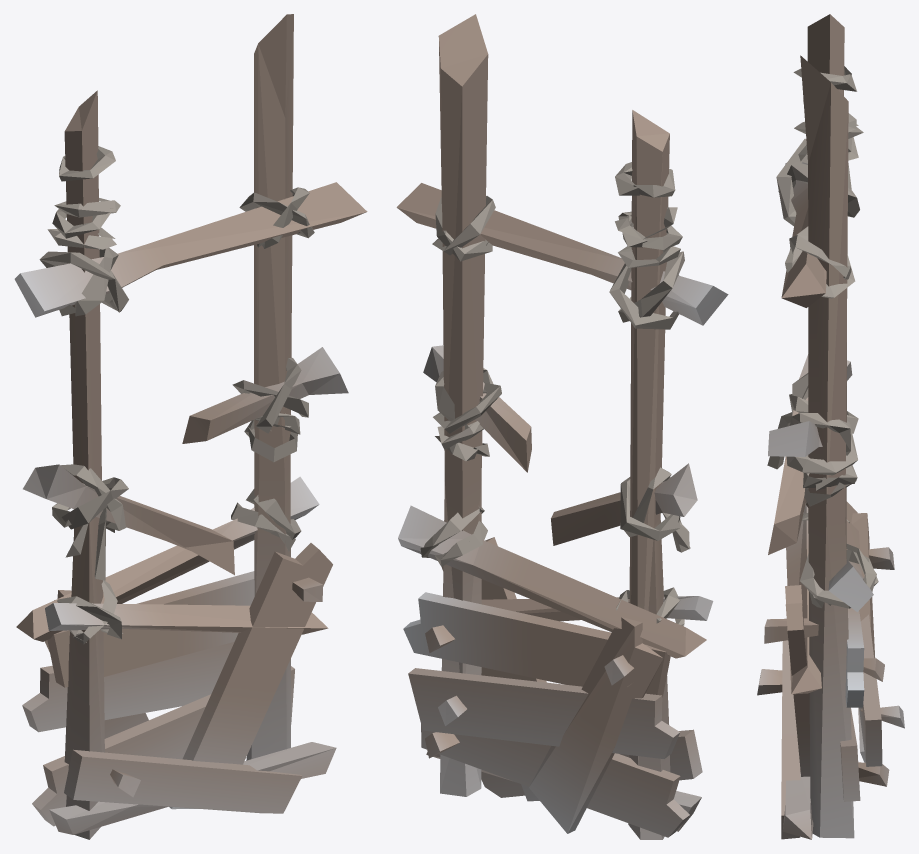
Rendered from Terrain_Stage2_Decoration_5.fbx.
3 renders of one model, left to right at view 1: azimuth 30°, elevation 25°; view 2: azimuth 150°, elevation 25°; view 3: azimuth 270°, elevation 25°, orthographic. The views are drawn at different scales.
Visible parts, largest first — view 1: terrain_shelf_403_LOD1; view 2: terrain_shelf_403_LOD1; view 3: terrain_shelf_403_LOD1.
Boxes of the visible parts, bbox=[...] form: terrain_shelf_403_LOD1: bbox=[14, 14, 367, 839]; terrain_shelf_403_LOD1: bbox=[396, 14, 728, 839]; terrain_shelf_403_LOD1: bbox=[757, 14, 904, 839].
Size of the model in its own units: 628 by 1460 by 247.
Materials: 1 (1 with a texture image).
